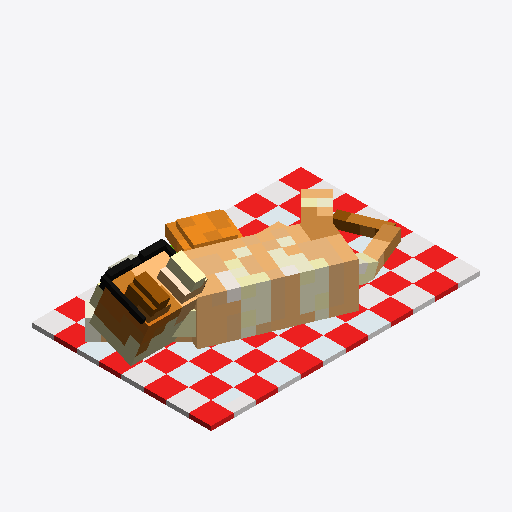
Isometric view (azimuth 45°, elevation 35.3°) of a Minecraft model made of 28 cuboids, textured from the same repository.
Visible parts, largest first — ковер, тело, голова, булка 2, нога 2, хвост 1, ухо 2, хвост 2, ухо 3, ухо 1, ухо 6, булка 3 (+1 smaller).
Boxes of the visible parts, x1=… form: ковер: x1=32, y1=167, x2=479, y2=430; тело: x1=183, y1=217, x2=358, y2=348; голова: x1=89, y1=251, x2=202, y2=365; булка 2: x1=176, y1=209, x2=237, y2=248; нога 2: x1=301, y1=189, x2=332, y2=222; хвост 1: x1=363, y1=224, x2=400, y2=277; ухо 2: x1=166, y1=250, x2=205, y2=300; хвост 2: x1=333, y1=209, x2=395, y2=237; ухо 3: x1=133, y1=271, x2=169, y2=320; ухо 1: x1=157, y1=267, x2=190, y2=303; ухо 6: x1=124, y1=282, x2=156, y2=322; булка 3: x1=165, y1=210, x2=242, y2=252.
Bounding box in the file's own units: 24 × 7.05 × 16.